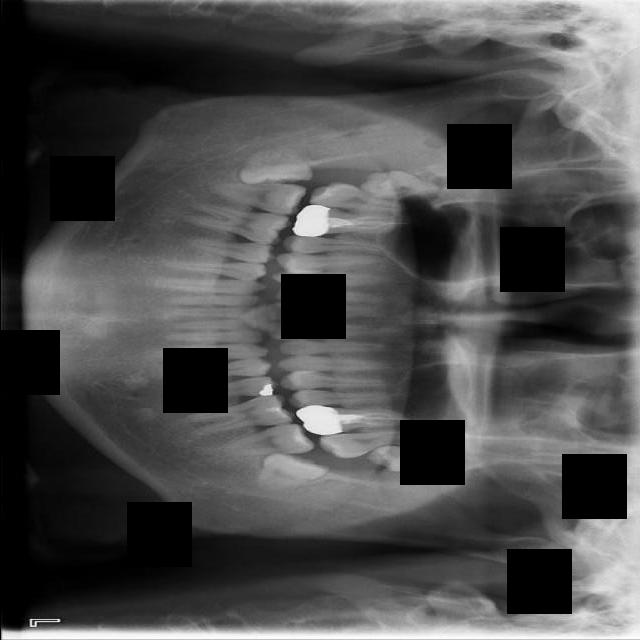3M ESPE Implant: (359, 168, 446, 203)
52: (261, 410, 316, 466), (244, 386, 296, 437), (289, 199, 341, 245), (293, 402, 350, 439), (239, 375, 278, 398)
73: (334, 209, 411, 242), (335, 408, 413, 433), (82, 604, 87, 609)
BioHorizons Implant: (316, 430, 417, 460)
BioLife Implant: (366, 445, 448, 472)
Biomet 3i Implant: (250, 447, 330, 493)
Blue Sky Bio Implant: (216, 421, 315, 458)
Caries: (307, 178, 408, 217)
Implant: (210, 181, 306, 217)
Keystone Dental Implant: (238, 143, 313, 187)
